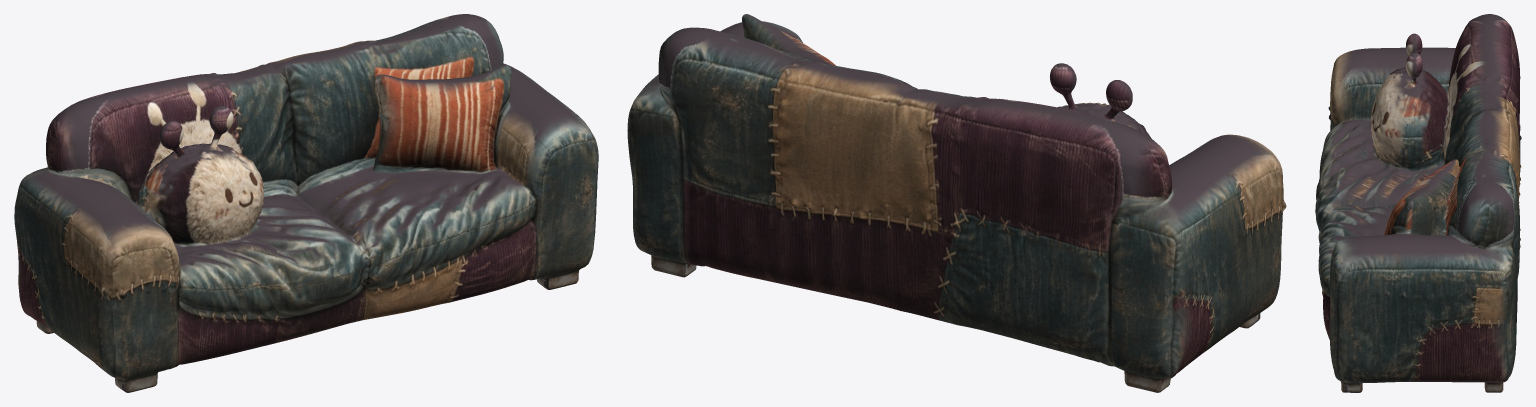
File: apartment-couch.glb
3 views of the same model, side by side, from view 1: azimuth 30°, elevation 25°; view 2: azimuth 150°, elevation 25°; view 3: azimuth 270°, elevation 25° (orthographic). The views are drawn at different scales.
Visible parts, largest first — view 1: ZANG apartment patchwork couch; view 2: ZANG apartment patchwork couch; view 3: ZANG apartment patchwork couch.
Part boxes in pixels (x1,y1,x2,y2): ZANG apartment patchwork couch: (14,14,598,392); ZANG apartment patchwork couch: (627,14,1286,392); ZANG apartment patchwork couch: (1315,14,1521,392).
Size of the model in its own units: 2.87 by 1.23 by 1.14.
Materials: 1 (1 with a texture image).
